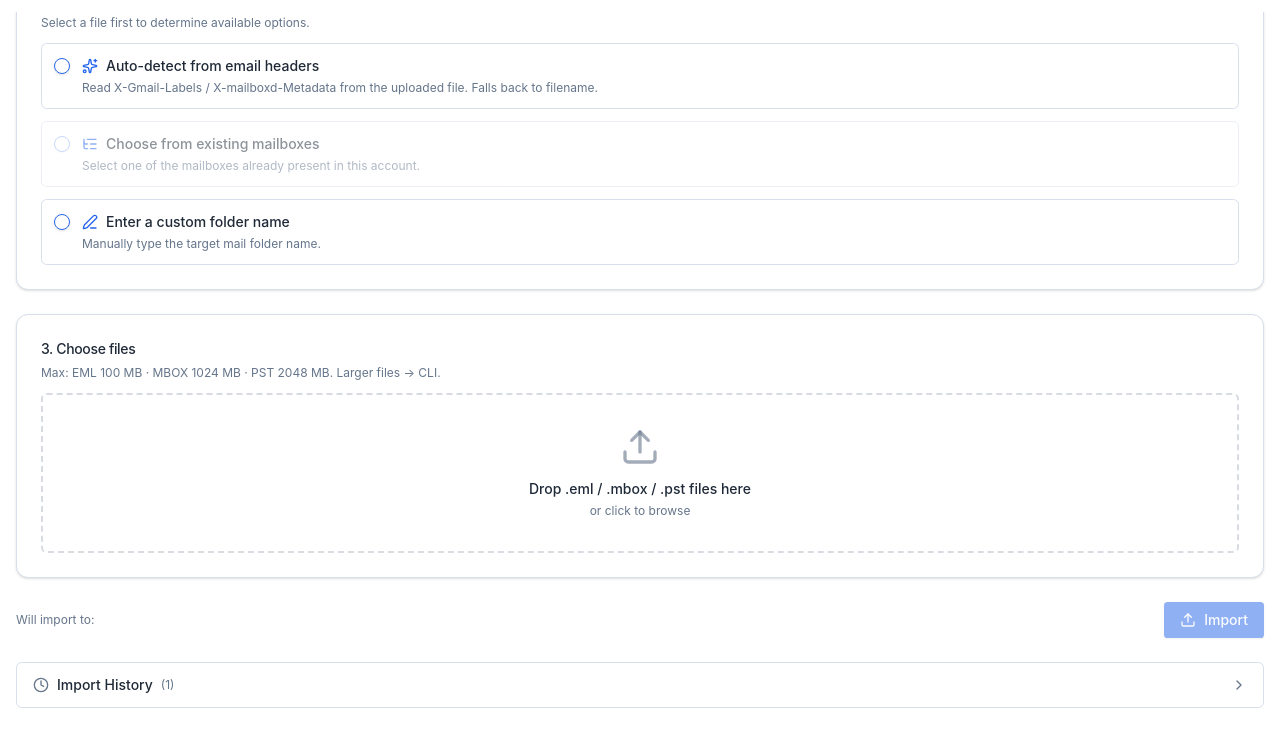
ImportPage history › lists mail skipped as outside the retention period
The image size is (1280, 732).
Click the button "Import History (1)". click: click(105, 684)
box: x1=17 y1=663 x2=1263 y2=707
(page scrolled)
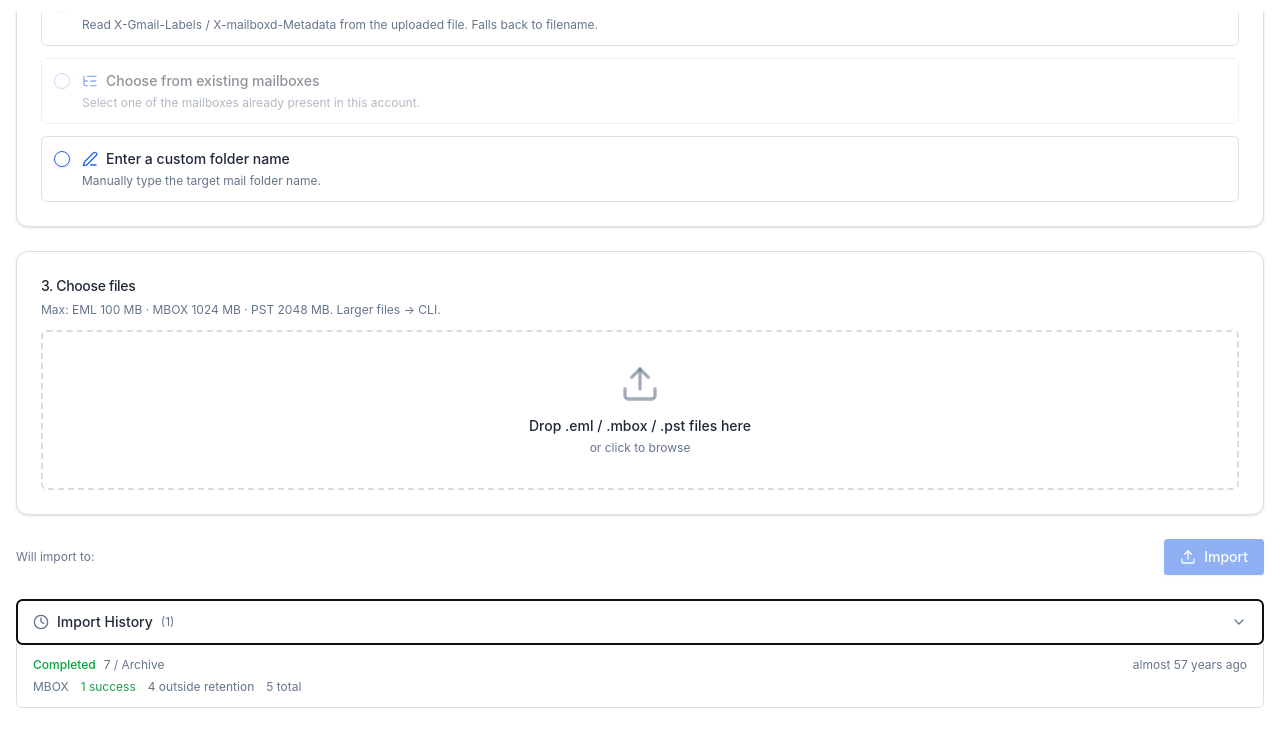
Expected: the text "4 outside retention" is shown, x1=148 y1=679 x2=254 y2=695
